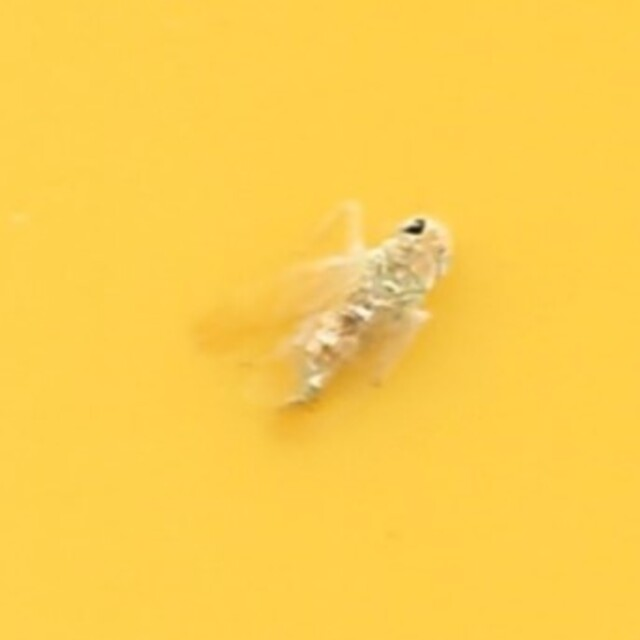Hemiptera: (187, 195, 453, 445)
